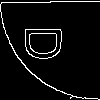D: (25, 25, 71, 61)
